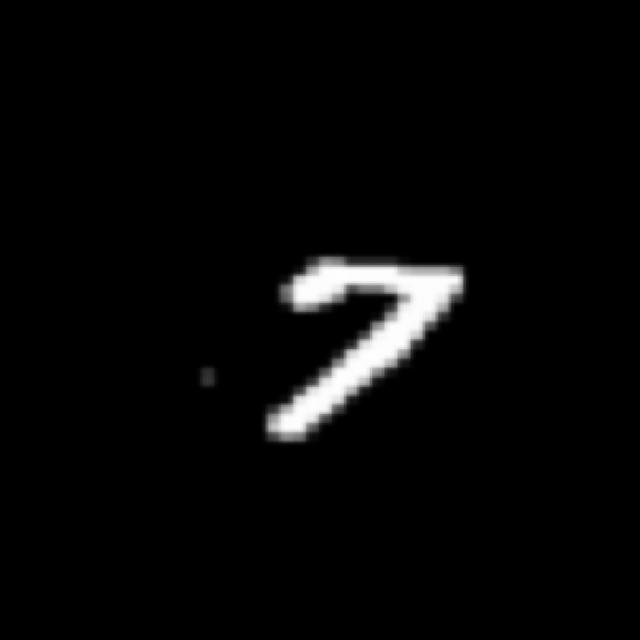seven -7-: (258, 254, 479, 445)
